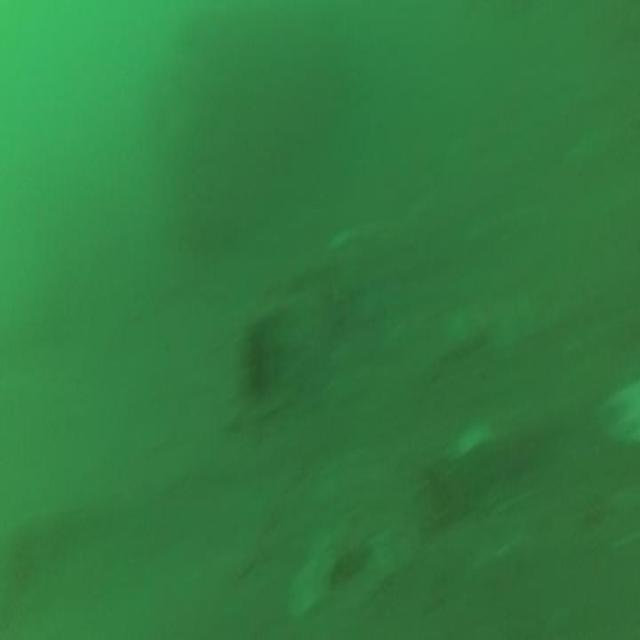echinus: (246, 312, 278, 402)
